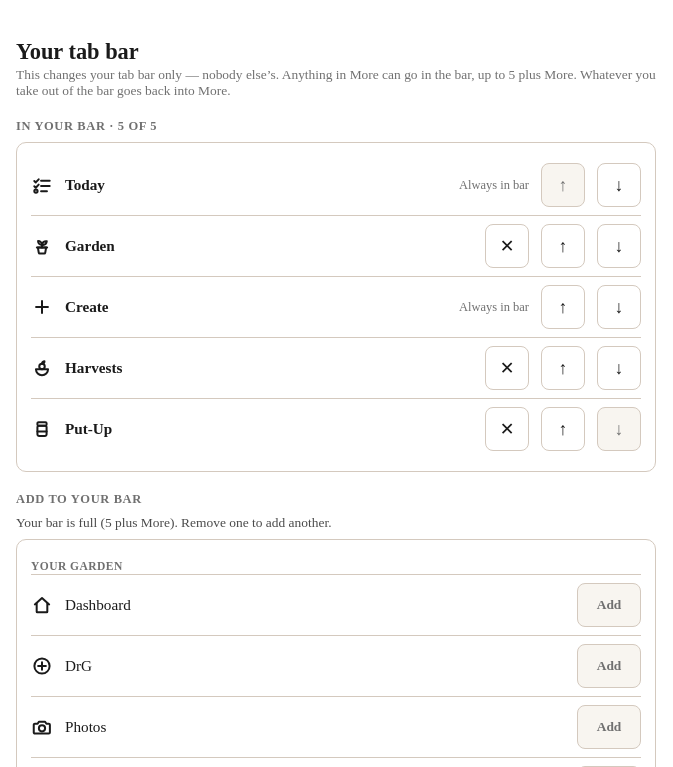
Test case: any page can take a slot › a full bar refuses Add, in words, until one is removed
The width and height of the screenshot is (673, 767).
Expected: the text with test id "bar-full" shows "Your bar is full (5 plus More)", [16,515,332,530]
Click the button named "Remove Garden from the bar": (507, 246) [485,224,529,268]
(page scrolled)
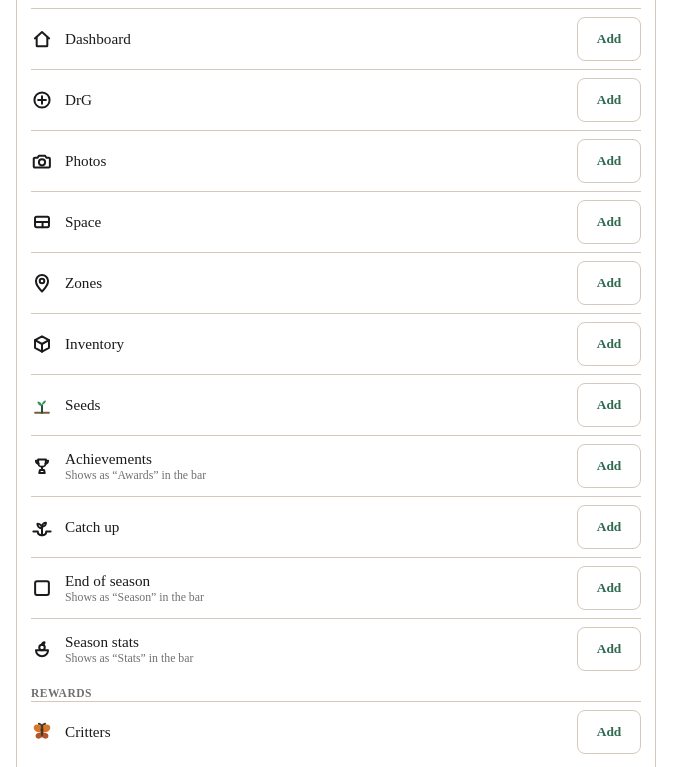
Expected: the text with test id "bar-full" is gone
Expected: the button with aria-label "Add Seeds to the bar" is enabled, [577,383,641,427]
